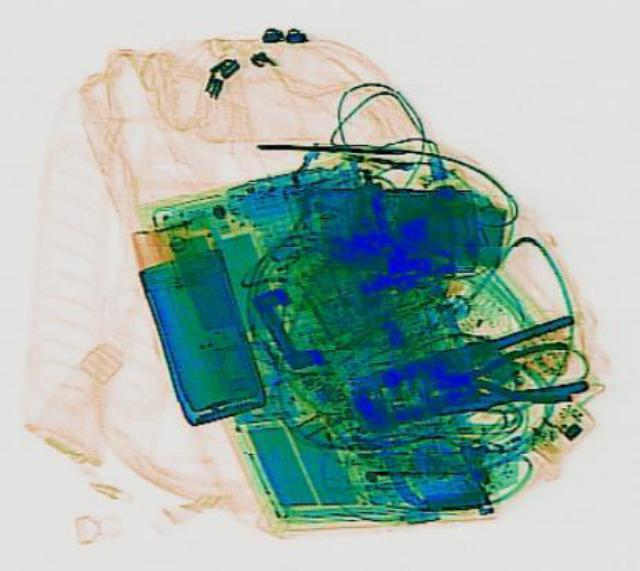Pliers: (337, 310, 598, 443), (440, 334, 590, 411)
